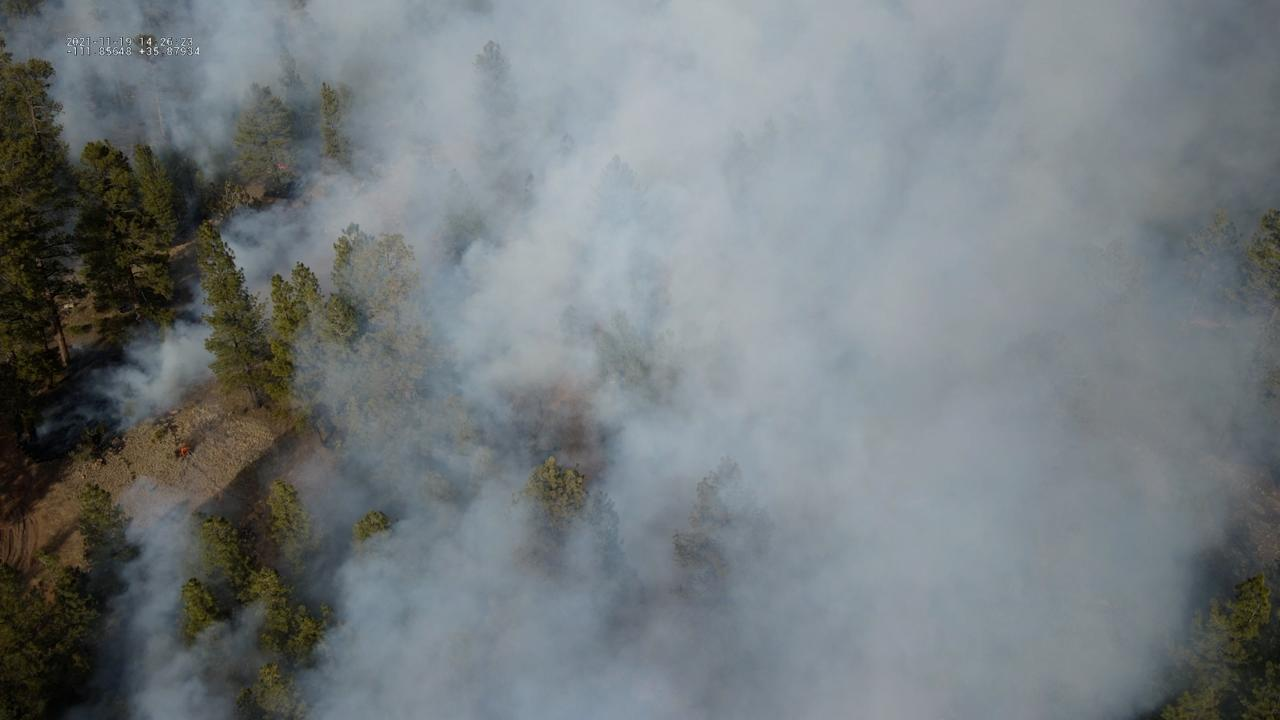fire: (179, 447, 189, 458), (275, 162, 288, 170)
smoke: (0, 0, 1280, 720)
